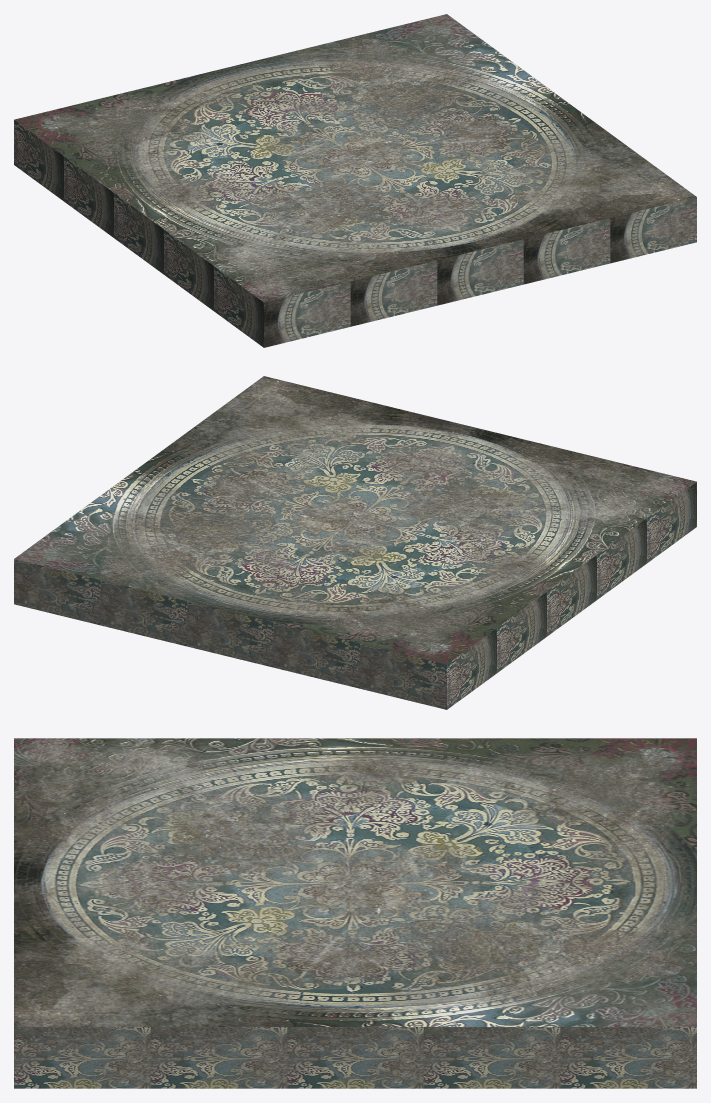
File: Ground.gltf
3 views of the same model, one above another, from view 1: azimuth 30°, elevation 25°; view 2: azimuth 150°, elevation 25°; view 3: azimuth 270°, elevation 25° (orthographic). The views are drawn at different scales.
Parts seen in each view (by area): view 1: 立方体.024, 立方体.005, 立方体.015, 立方体.014, 立方体.004, 立方体.020, 立方体.021, 立方体.022, 立方体.023, 立方体.002, 立方体.009, 立方体.017 (+13 smaller); view 2: 立方体.022, 立方体.007, 立方体.017, 立方体.012, 立方体.002, 立方体.021, 立方体.023, 立方体.024, 立方体.020, 立方体.004, 立方体.006, 立方体.015 (+13 smaller); view 3: 立方体.010, 立方体.013, 立方体.011, 立方体.012, 立方体.014, 立方体, 立方体.003, 立方体.001, 立方体.002, 立方体.004, 立方体.006, 立方体.009 (+13 smaller).
Boxes of the visible parts, bbox=[...] form: 立方体.024: bbox=[214, 245, 350, 347]; 立方体.005: bbox=[474, 181, 610, 284]; 立方体.015: bbox=[301, 224, 437, 326]; 立方体.014: bbox=[560, 160, 696, 263]; 立方体.004: bbox=[387, 202, 523, 305]; 立方体.020: bbox=[64, 135, 200, 237]; 立方体.021: bbox=[114, 172, 249, 274]; 立方体.022: bbox=[14, 98, 149, 201]; 立方体.023: bbox=[164, 208, 299, 310]; 立方体.002: bbox=[187, 56, 323, 113]; 立方体.009: bbox=[324, 71, 459, 129]; 立方体.017: bbox=[101, 77, 236, 134]; 立方体.022: bbox=[360, 607, 496, 709]; 立方体.007: bbox=[100, 543, 236, 646]; 立方体.017: bbox=[273, 586, 409, 688]; 立方体.012: bbox=[14, 522, 150, 625]; 立方体.002: bbox=[187, 564, 323, 667]; 立方体.021: bbox=[461, 534, 596, 636]; 立方体.023: bbox=[510, 497, 646, 599]; 立方体.024: bbox=[561, 460, 696, 563]; 立方体.020: bbox=[411, 570, 546, 672]; 立方体.004: bbox=[387, 418, 523, 475]; 立方体.006: bbox=[251, 433, 386, 491]; 立方体.015: bbox=[474, 439, 609, 496]; 立方体.010: bbox=[423, 969, 560, 1088]; 立方体.013: bbox=[150, 969, 287, 1088]; 立方体.011: bbox=[287, 969, 423, 1088]; 立方体.012: bbox=[560, 969, 696, 1088]; 立方体.014: bbox=[14, 969, 150, 1088]; 立方体: bbox=[423, 853, 560, 911]; 立方体.003: bbox=[150, 853, 287, 911]; 立方体.001: bbox=[287, 853, 423, 911]; 立方体.002: bbox=[560, 853, 696, 911]; 立方体.004: bbox=[14, 853, 150, 911]; 立方体.006: bbox=[150, 911, 287, 968]; 立方体.009: bbox=[423, 911, 560, 968].
Size of the model in its own units: 20 by 2 by 20.
25 materials, 25 textured.
